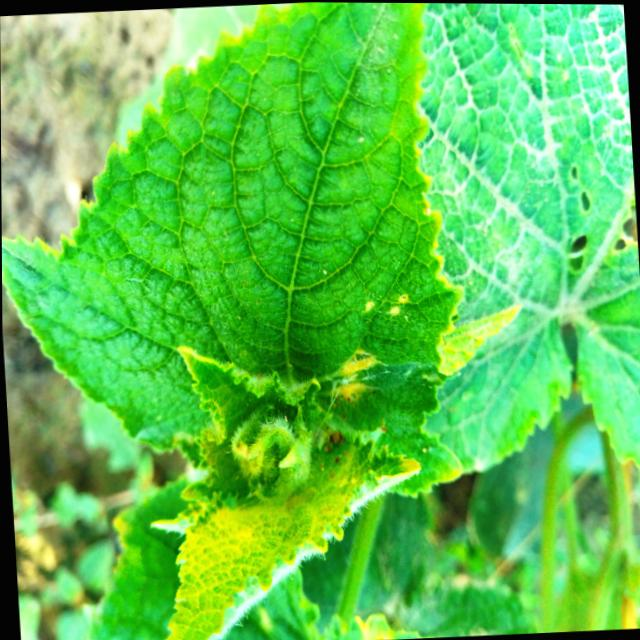Fresh-Leaf: (2, 3, 516, 495)
